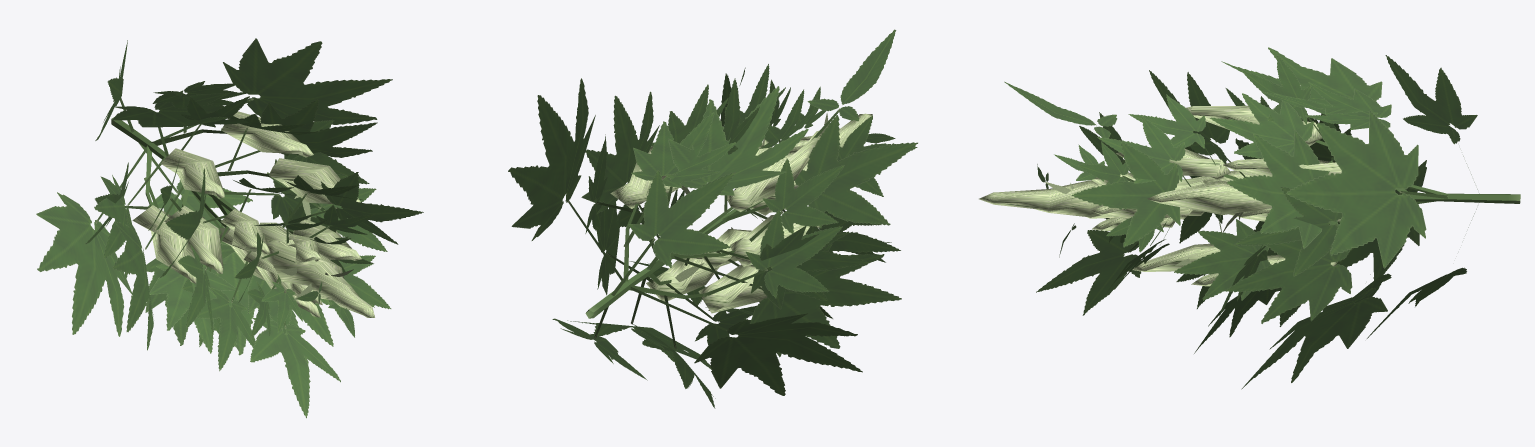
File: p_frosty_tree_flowering_c0_cards.obj
3 renders of one model, left to right at view 1: azimuth 30°, elevation 25°; view 2: azimuth 150°, elevation 25°; view 3: azimuth 270°, elevation 25°, orthographic. The views are drawn at different scales.
Bounding box in the file's own units: 1.63 × 1.29 × 1.8.
1 material, 1 textured.
